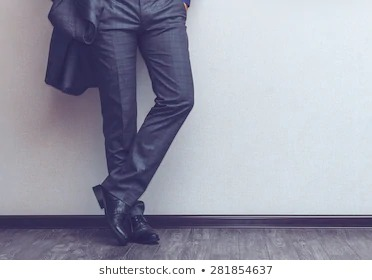F_dress pants: (94, 1, 205, 218)
